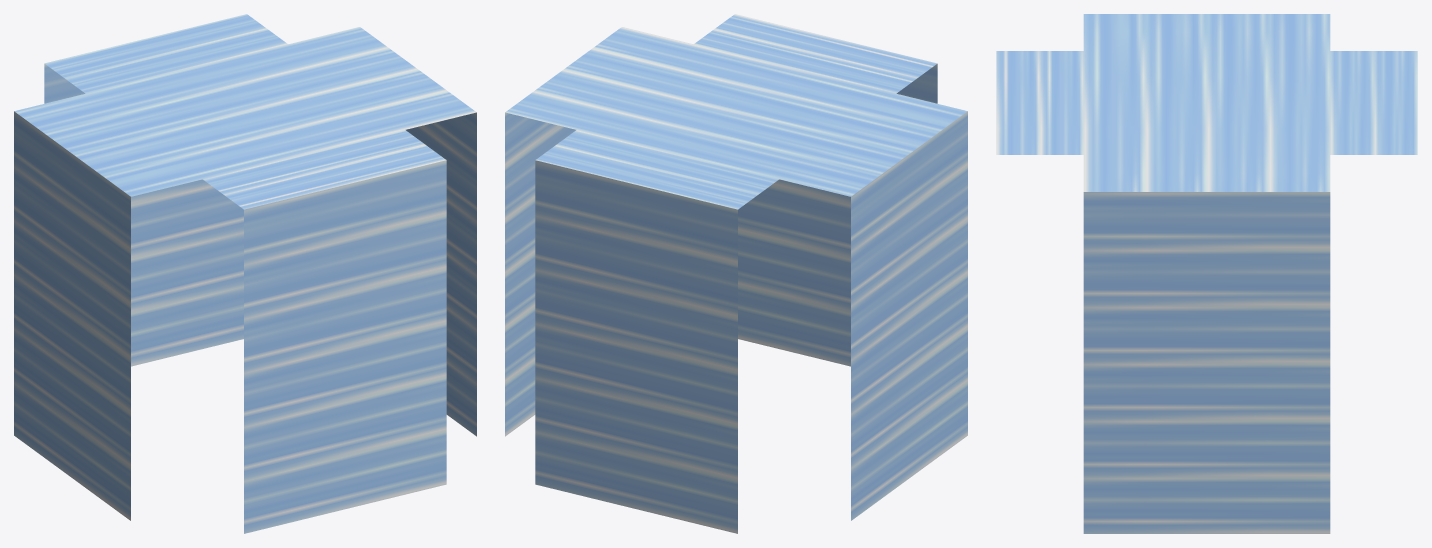
File: reservoir_fluid2of4.obj
3 views of the same model, side by side, from view 1: azimuth 30°, elevation 25°; view 2: azimuth 150°, elevation 25°; view 3: azimuth 270°, elevation 25° (orthographic). The views are drawn at different scales.
Visible parts, largest first — view 1: FLUID_2OF4_Cylinder.003; view 2: FLUID_2OF4_Cylinder.003; view 3: FLUID_2OF4_Cylinder.003.
Boxes of the visible parts, bbox=[...] form: FLUID_2OF4_Cylinder.003: bbox=[14, 14, 476, 533]; FLUID_2OF4_Cylinder.003: bbox=[505, 14, 967, 533]; FLUID_2OF4_Cylinder.003: bbox=[996, 14, 1417, 533].
Bounding box in the file's own units: 0.1797 × 0.1609 × 0.1797.
